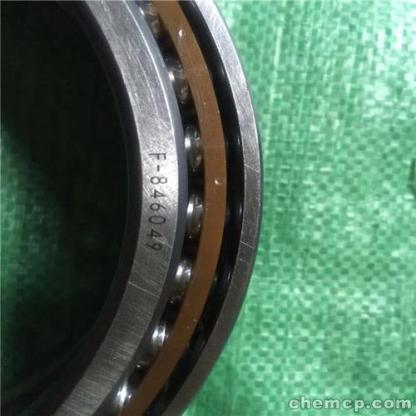FOD: (0, 0, 265, 415)
